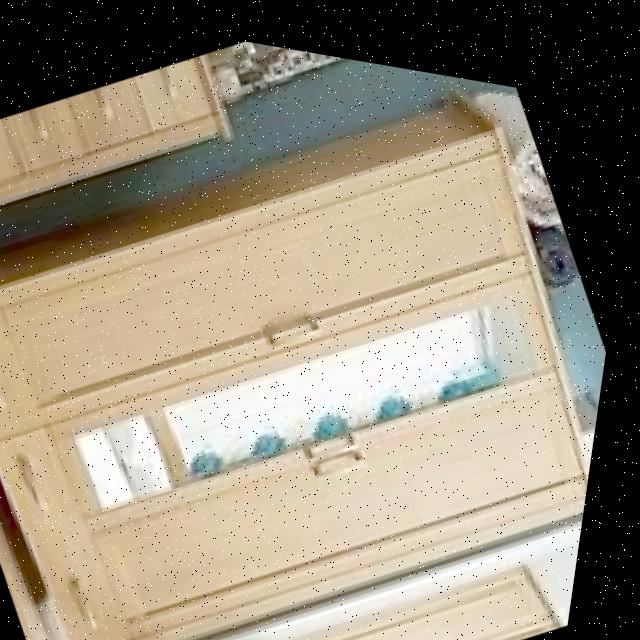dolap: (0, 0, 640, 640), (0, 16, 252, 295)
